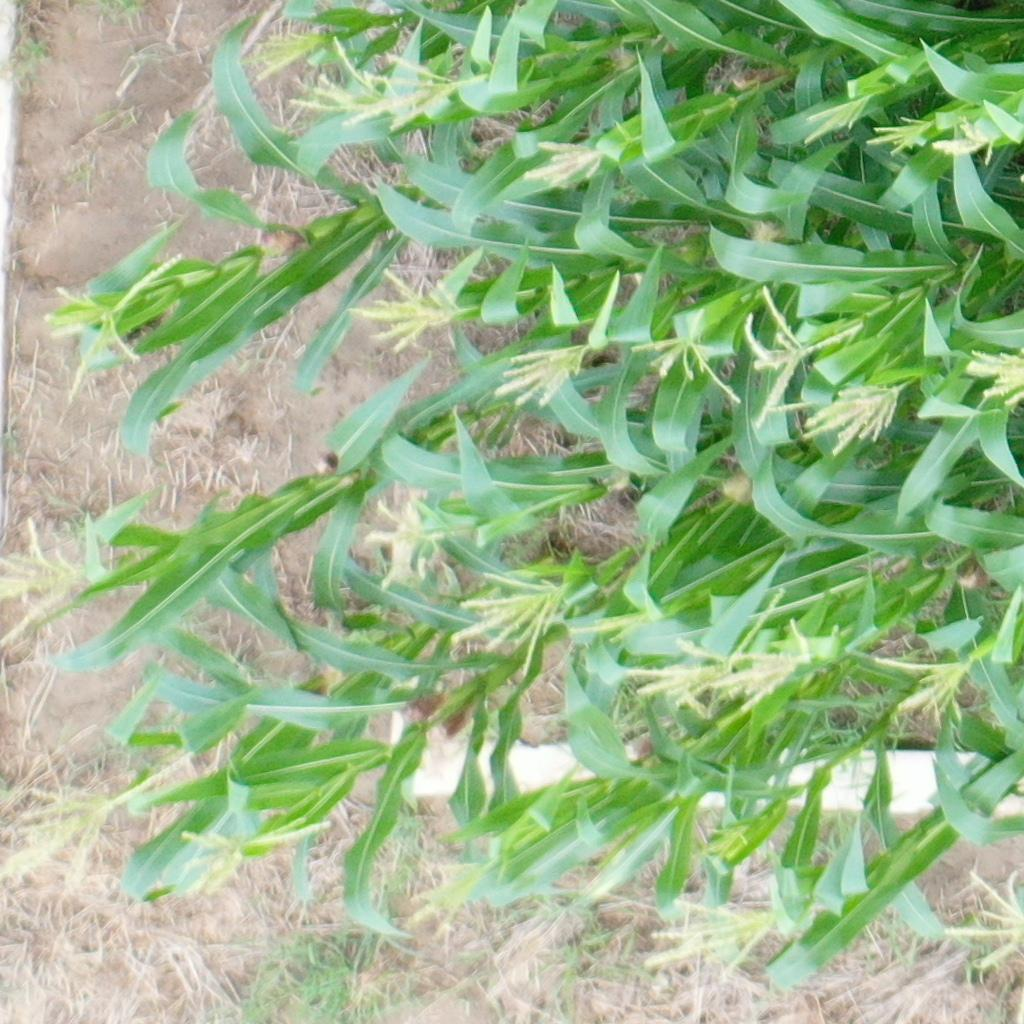Tassel: (43, 251, 189, 399), (627, 585, 789, 718), (286, 35, 492, 136), (736, 279, 867, 428), (1, 766, 150, 896), (167, 811, 334, 905), (443, 576, 582, 677), (643, 891, 785, 987), (1, 515, 103, 646), (711, 614, 836, 713), (772, 376, 918, 459), (347, 262, 477, 354), (633, 306, 740, 405), (362, 487, 457, 589), (400, 849, 506, 938), (946, 864, 1024, 973), (869, 641, 968, 722), (493, 340, 596, 410), (239, 29, 319, 87), (961, 346, 1024, 415), (518, 135, 606, 184), (570, 601, 665, 646), (800, 87, 870, 145), (934, 113, 1006, 169), (868, 114, 939, 159), (698, 822, 749, 859)
